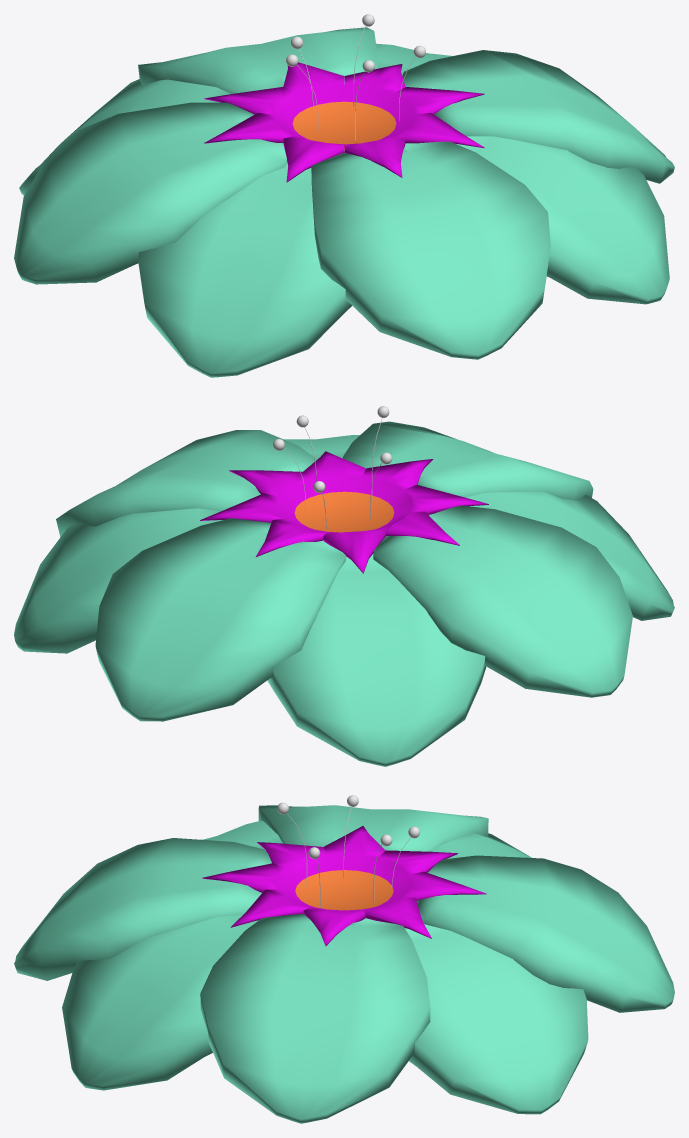
Rendered from LS_Flower.fbx.
The picture shows the model from 3 angles, top to bottom: view 1: azimuth 30°, elevation 25°; view 2: azimuth 150°, elevation 25°; view 3: azimuth 270°, elevation 25°; orthographic projection. The views are drawn at different scales.
Visible parts, largest first — view 1: Cylinder; view 2: Cylinder; view 3: Cylinder.
Part boxes in pixels (bbox=[...]): Cylinder: bbox=[14, 27, 674, 377]; Cylinder: bbox=[14, 421, 674, 766]; Cylinder: bbox=[14, 805, 674, 1123].
Bounding box in the file's own units: 38.83 × 12.84 × 38.83.
